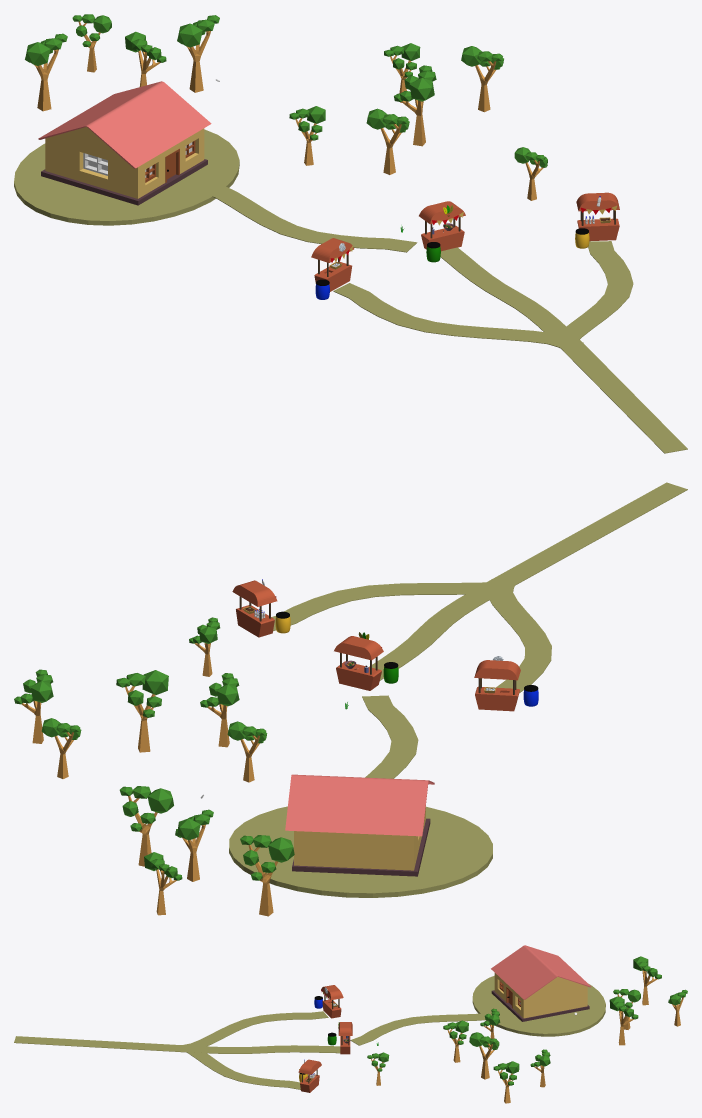
Rendered from stand lv 3_fix.fbx.
3 views of the same model, one above another, from view 1: azimuth 30°, elevation 25°; view 2: azimuth 150°, elevation 25°; view 3: azimuth 270°, elevation 25° (orthographic). The views are drawn at different scales.
Visible parts, largest first — view 1: Circle, roof, Plane.015, wall, Plane.014, Plane.018, Plane.017, Icosphere.034, Icosphere.035, Icosphere.036, Cube.012, Icosphere.031 (+8 smaller); view 2: Circle, roof, Plane.015, wall, Plane.014, Plane.017, Plane.018, Icosphere.035, Icosphere.034, Icosphere.036, Icosphere.032, Icosphere.031 (+12 smaller); view 3: Circle, roof, Plane.015, wall, Plane.014, Plane.018, Plane.017, Icosphere.034, Icosphere.036, Icosphere.035, Icosphere.032, Icosphere.031 (+6 smaller).
Boxes of the visible parts, x1,y1,x2,y2 form: Circle: (14,129,239,225); roof: (38,81,211,168); Plane.015: (440,247,687,453); wall: (45,127,204,198); Plane.014: (333,283,583,348); Plane.018: (212,186,417,252); Plane.017: (566,241,633,339); Icosphere.034: (394,65,436,146); Icosphere.035: (25,33,67,111); Icosphere.036: (177,15,219,92); Cube.012: (41,159,207,205); Icosphere.031: (366,108,409,174); Circle: (229,806,492,897); roof: (285,774,434,836); Plane.015: (369,482,687,680); wall: (294,806,425,870); Plane.014: (489,579,551,692); Plane.017: (271,582,485,631); Plane.018: (362,695,418,778); Icosphere.035: (240,835,294,916); Icosphere.034: (116,670,168,752); Icosphere.036: (119,786,173,866); Icosphere.032: (14,669,53,743); Icosphere.031: (200,673,239,747); Circle: (472,975,605,1036); roof: (491,945,591,999); Plane.015: (14,1036,340,1053); wall: (494,973,587,1018); Plane.014: (181,1011,328,1052); Plane.018: (350,1013,485,1045); Plane.017: (186,1052,300,1089); Icosphere.034: (469,1032,499,1079); Icosphere.036: (609,996,638,1045); Icosphere.035: (633,956,661,1005); Icosphere.032: (493,1061,519,1103); Icosphere.031: (443,1020,468,1062).
Bounding box in the file's own units: 4158 × 652 × 8597.
